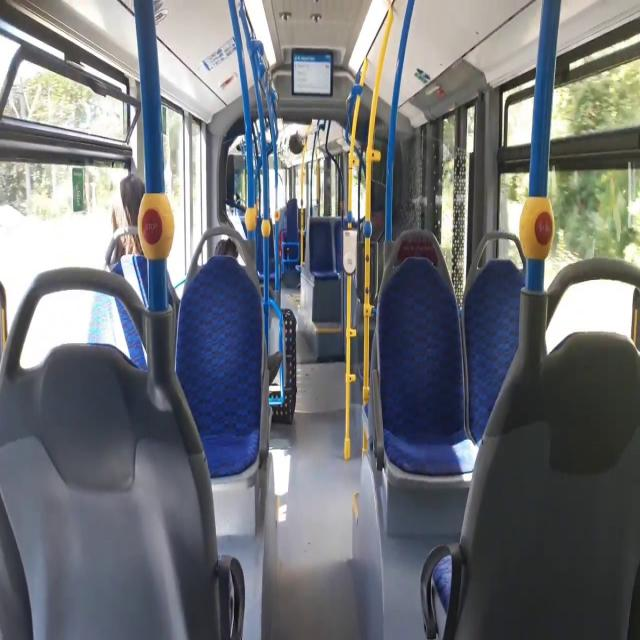empty-seat-frontal: (372, 228, 482, 483), (172, 225, 269, 485)
